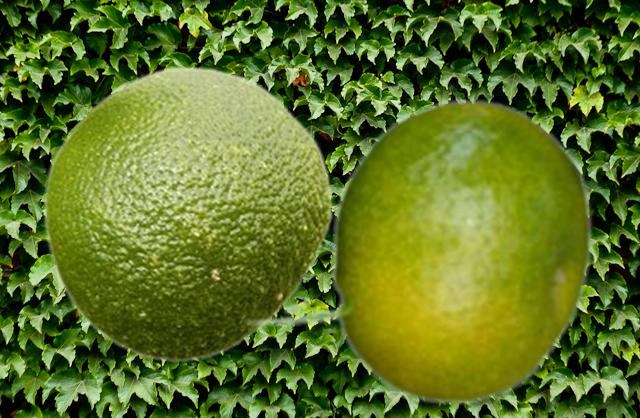calamansi: (244, 97, 592, 404), (42, 65, 332, 363)
